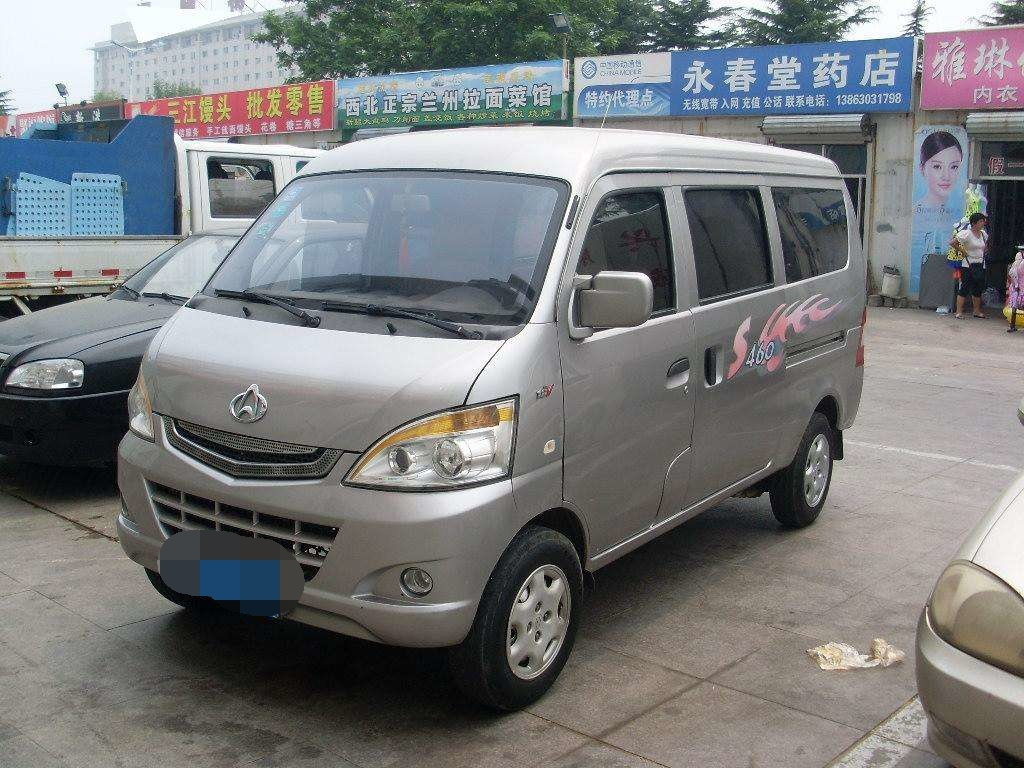minibus: (127, 133, 900, 718)
